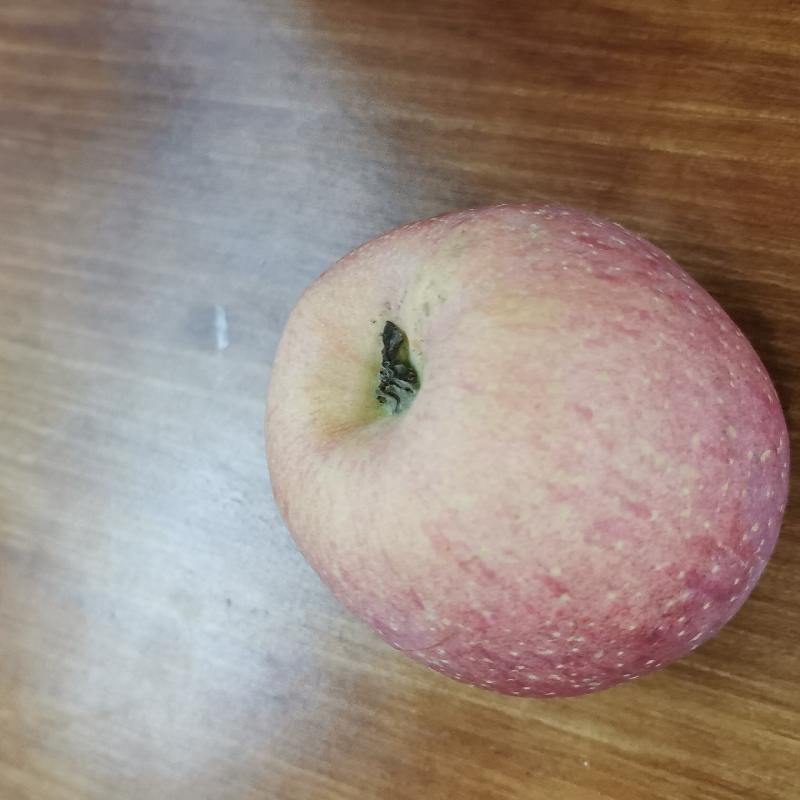apples: (255, 206, 795, 701)
